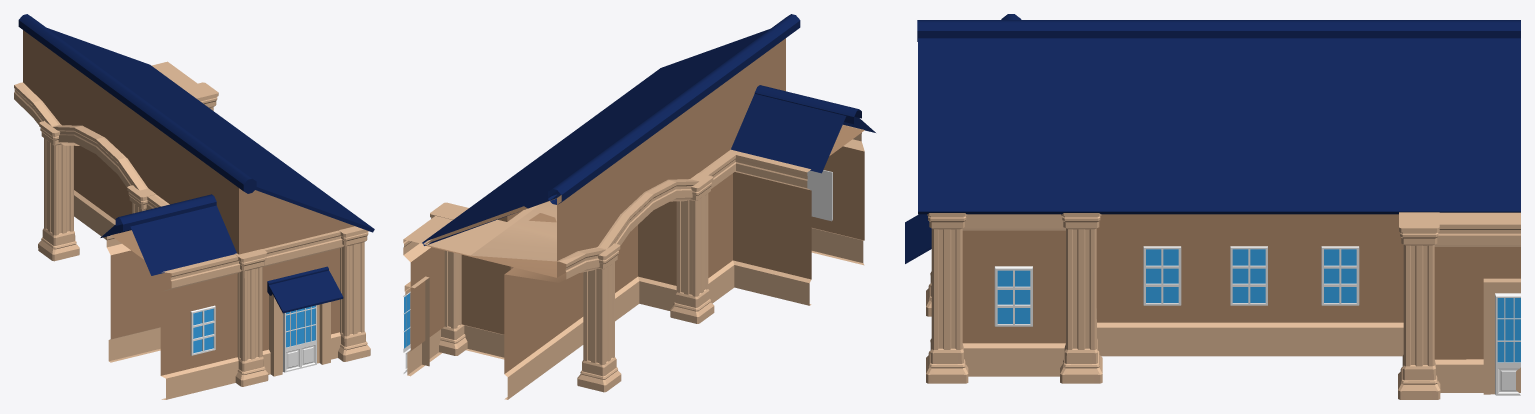
3 views of the same model, side by side, from view 1: azimuth 30°, elevation 25°; view 2: azimuth 150°, elevation 25°; view 3: azimuth 270°, elevation 25° (orthographic). The views are drawn at different scales.
Parts seen in each view (by area): view 1: Object004; view 2: Object004; view 3: Object004.
Boxes of the visible parts, x1,y1,x2,y2 form: Object004: (14,14,374,399); Object004: (403,14,875,399); Object004: (905,14,1520,399).
Size of the model in its own units: 8.61 by 7.02 by 13.95.
